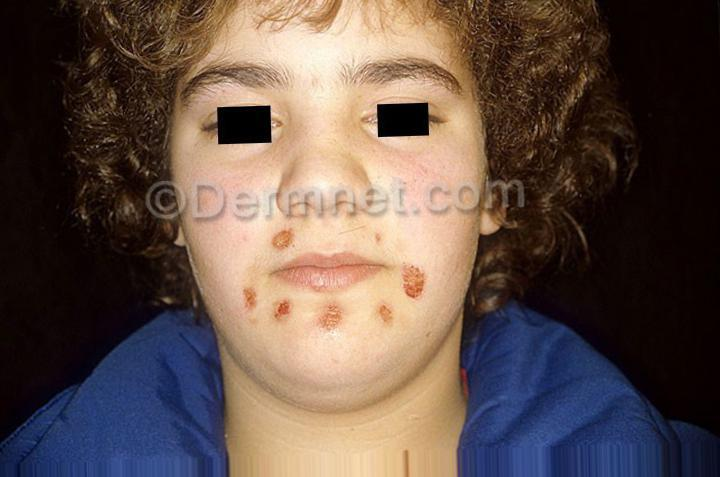Acne: (237, 277, 311, 328), (268, 215, 312, 262), (402, 251, 431, 305), (377, 294, 401, 336), (325, 303, 350, 342)
